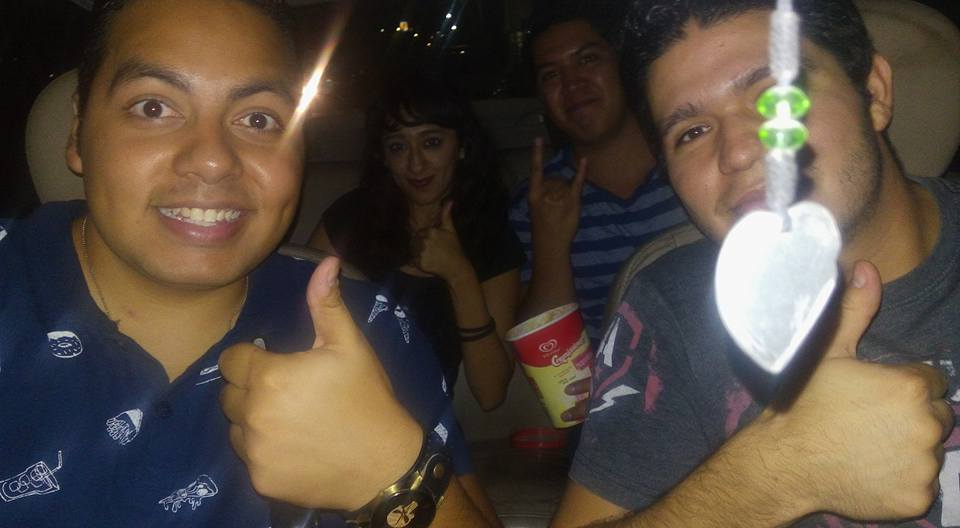Yoshi: (49, 7, 373, 312)
